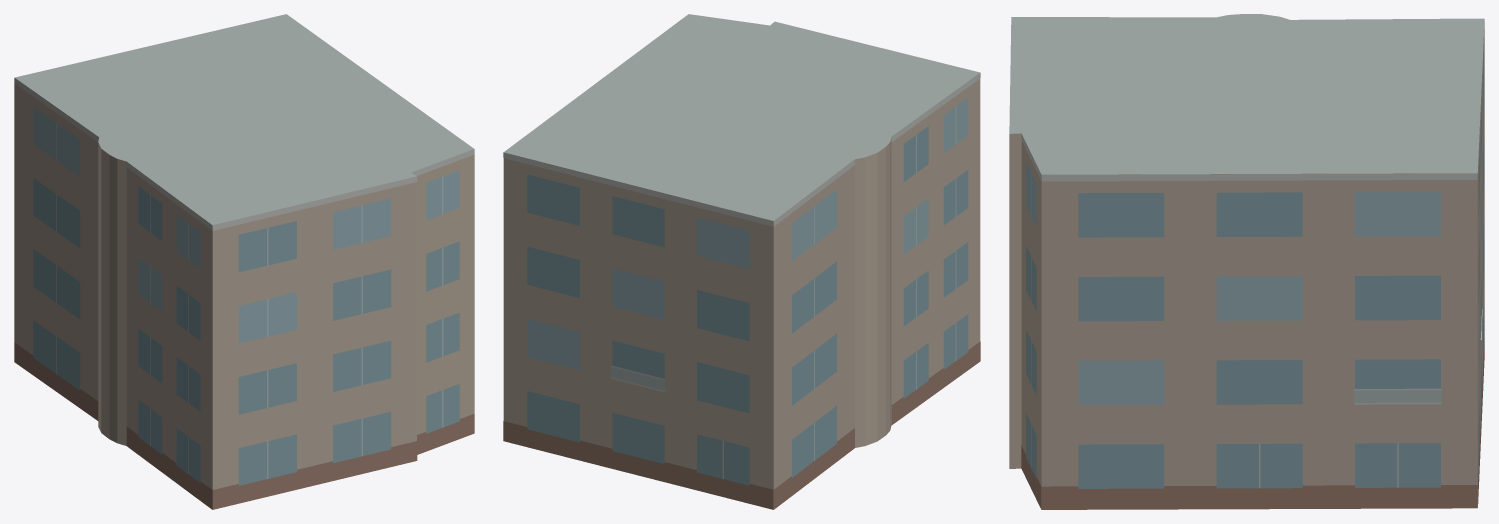
File: survey-upis-32974635.glb
3 renders of one model, left to right at view 1: azimuth 30°, elevation 25°; view 2: azimuth 150°, elevation 25°; view 3: azimuth 270°, elevation 25°, orthographic. The views are drawn at different scales.
Parts seen in each view (by area): view 1: survey-upis-32974635.tmp; view 2: survey-upis-32974635.tmp; view 3: survey-upis-32974635.tmp.
Part boxes in pixels (left/top/right/bottom): survey-upis-32974635.tmp: left=14, top=14, right=474, bottom=509; survey-upis-32974635.tmp: left=503, top=14, right=980, bottom=509; survey-upis-32974635.tmp: left=1009, top=14, right=1484, bottom=509.
Bounding box in the file's own units: 12.56 × 12.2 × 15.69.
